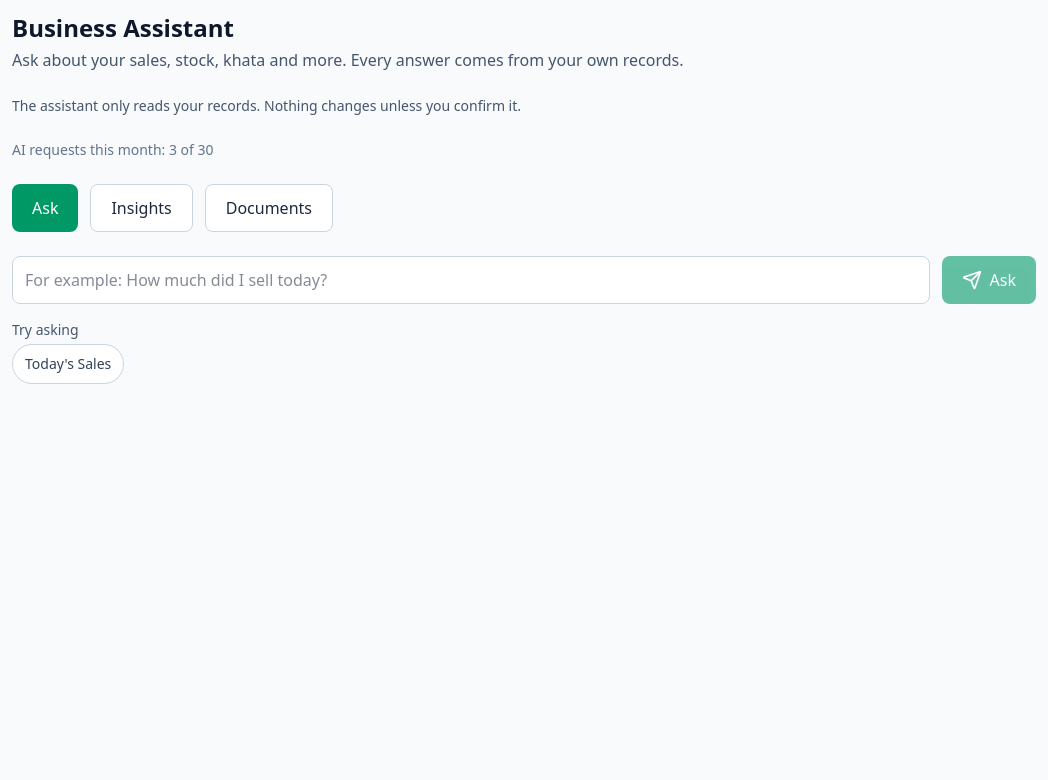
Test case: AssistantPage › shows "AI Assistant is temporarily unavailable." with Try again, and the retry works
The image size is (1048, 780).
Expected: the text "AI requests this month: 3 of 30" is shown, [12,140,214,159]
Type "kitna maal nikla aaj bhai" into the field named "Ask your Business Assistant" at (471, 280), box [12,256,930,304]
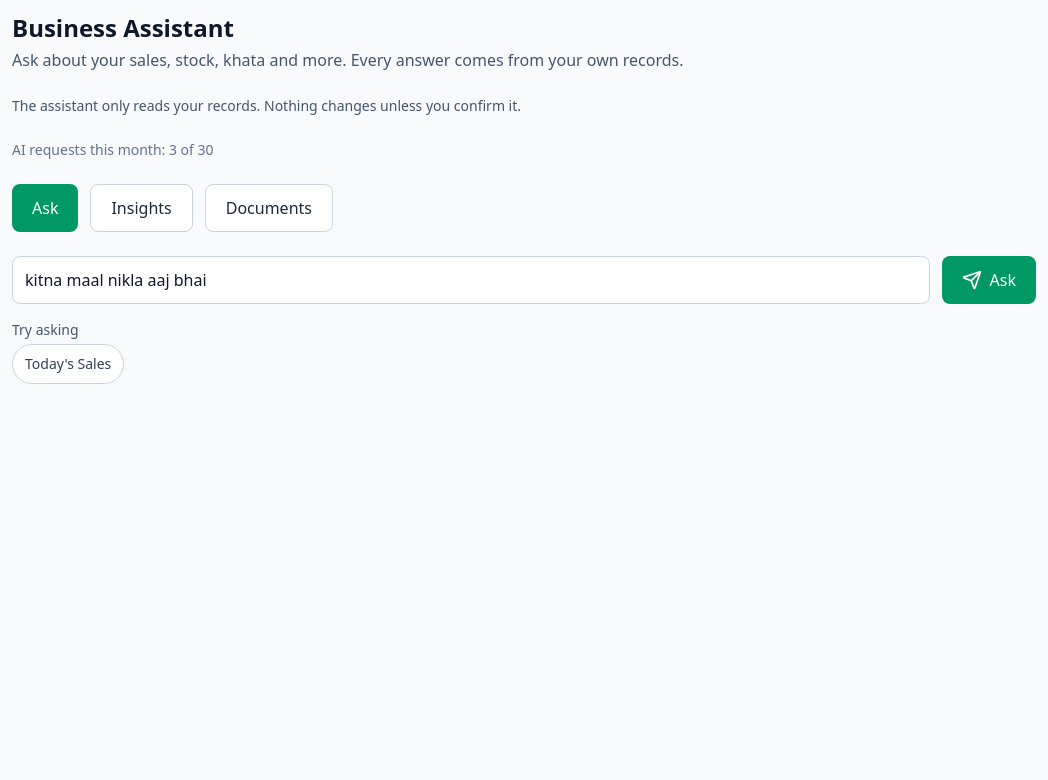
Click the button "Ask" at (989, 280), box [942,256,1036,304]
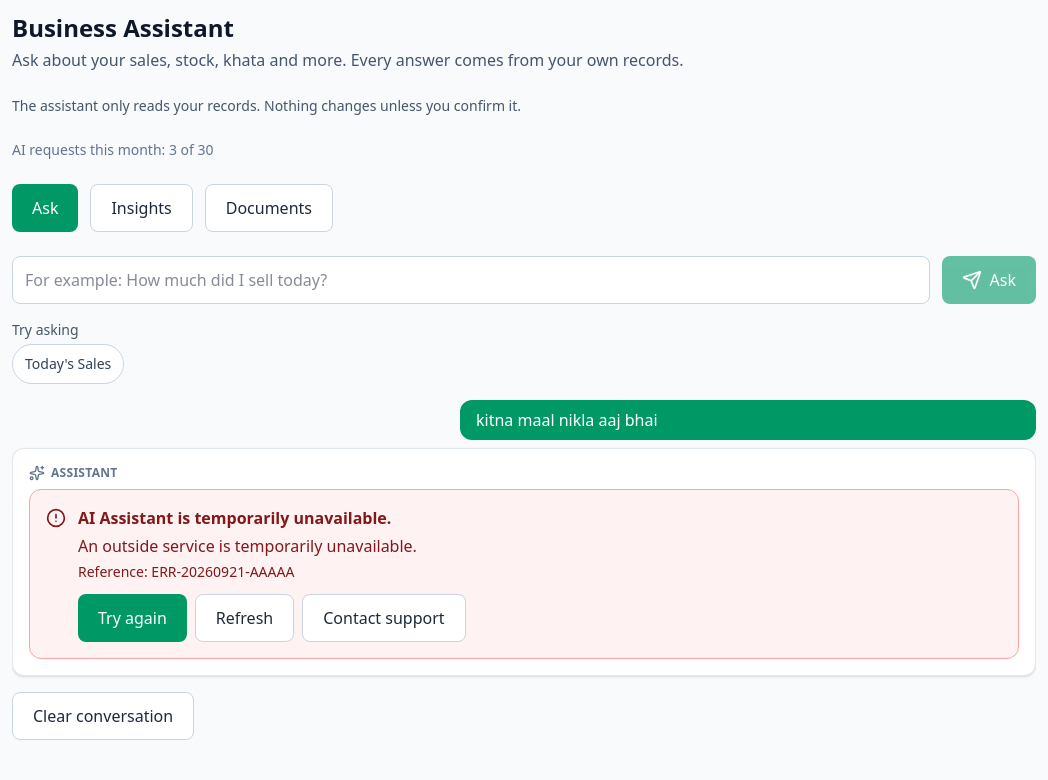
Expected: the text "AI Assistant is temporarily unavailable." is shown, [78,507,391,529]
Click the button "Try again" at (132, 618), box [78,594,187,642]
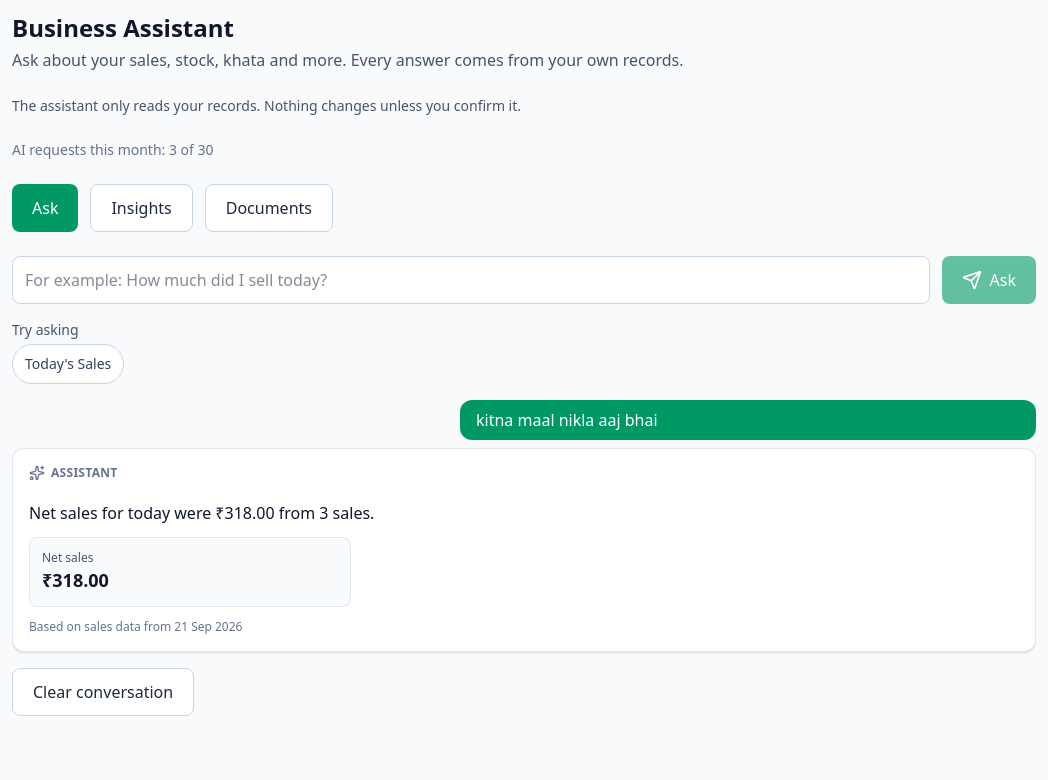
Expected: the text "Net sales for today were ₹318.00 from 3 sales." is shown, [29,502,374,524]
